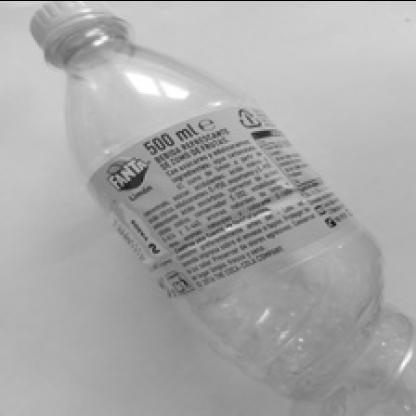plastic_bottles: (28, 0, 416, 392)
